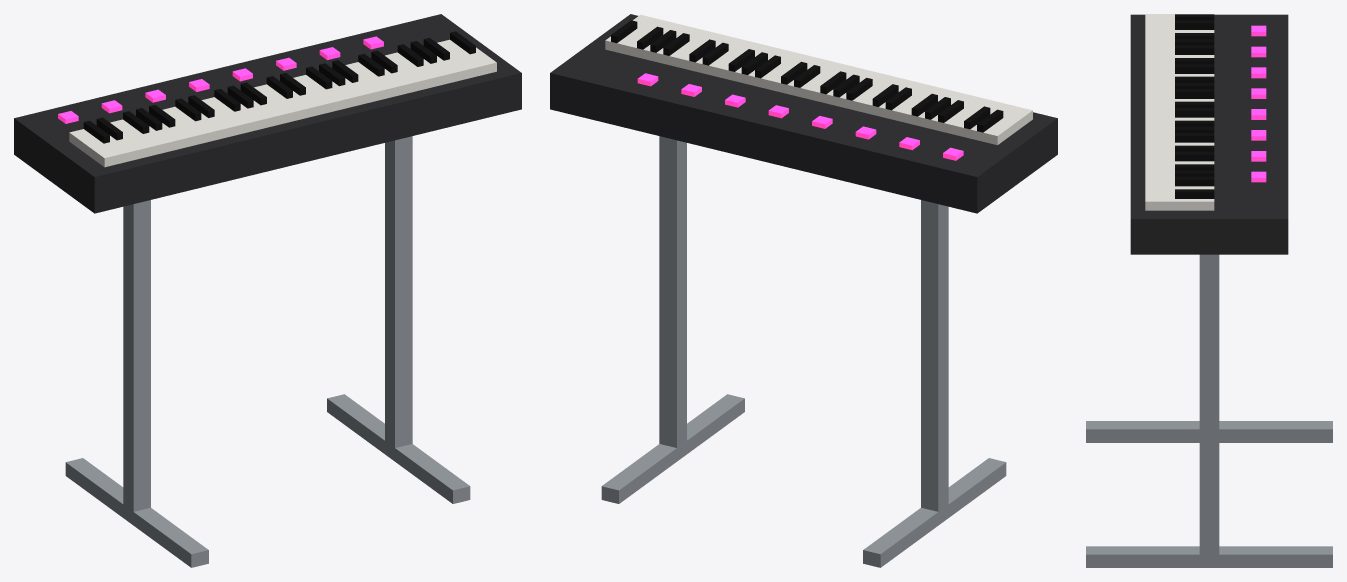
File: synth.glb
3 views of the same model, side by side, from view 1: azimuth 30°, elevation 25°; view 2: azimuth 150°, elevation 25°; view 3: azimuth 270°, elevation 25° (orthographic). The views are drawn at different scales.
Visible parts, largest first — view 1: synth; view 2: synth; view 3: synth.
Part boxes in pixels (x1,y1,x2,y2): synth: [14, 14, 521, 567]; synth: [550, 14, 1057, 567]; synth: [1086, 14, 1332, 567].
Bounding box in the file's own units: 0.98 × 0.895 × 0.5.
